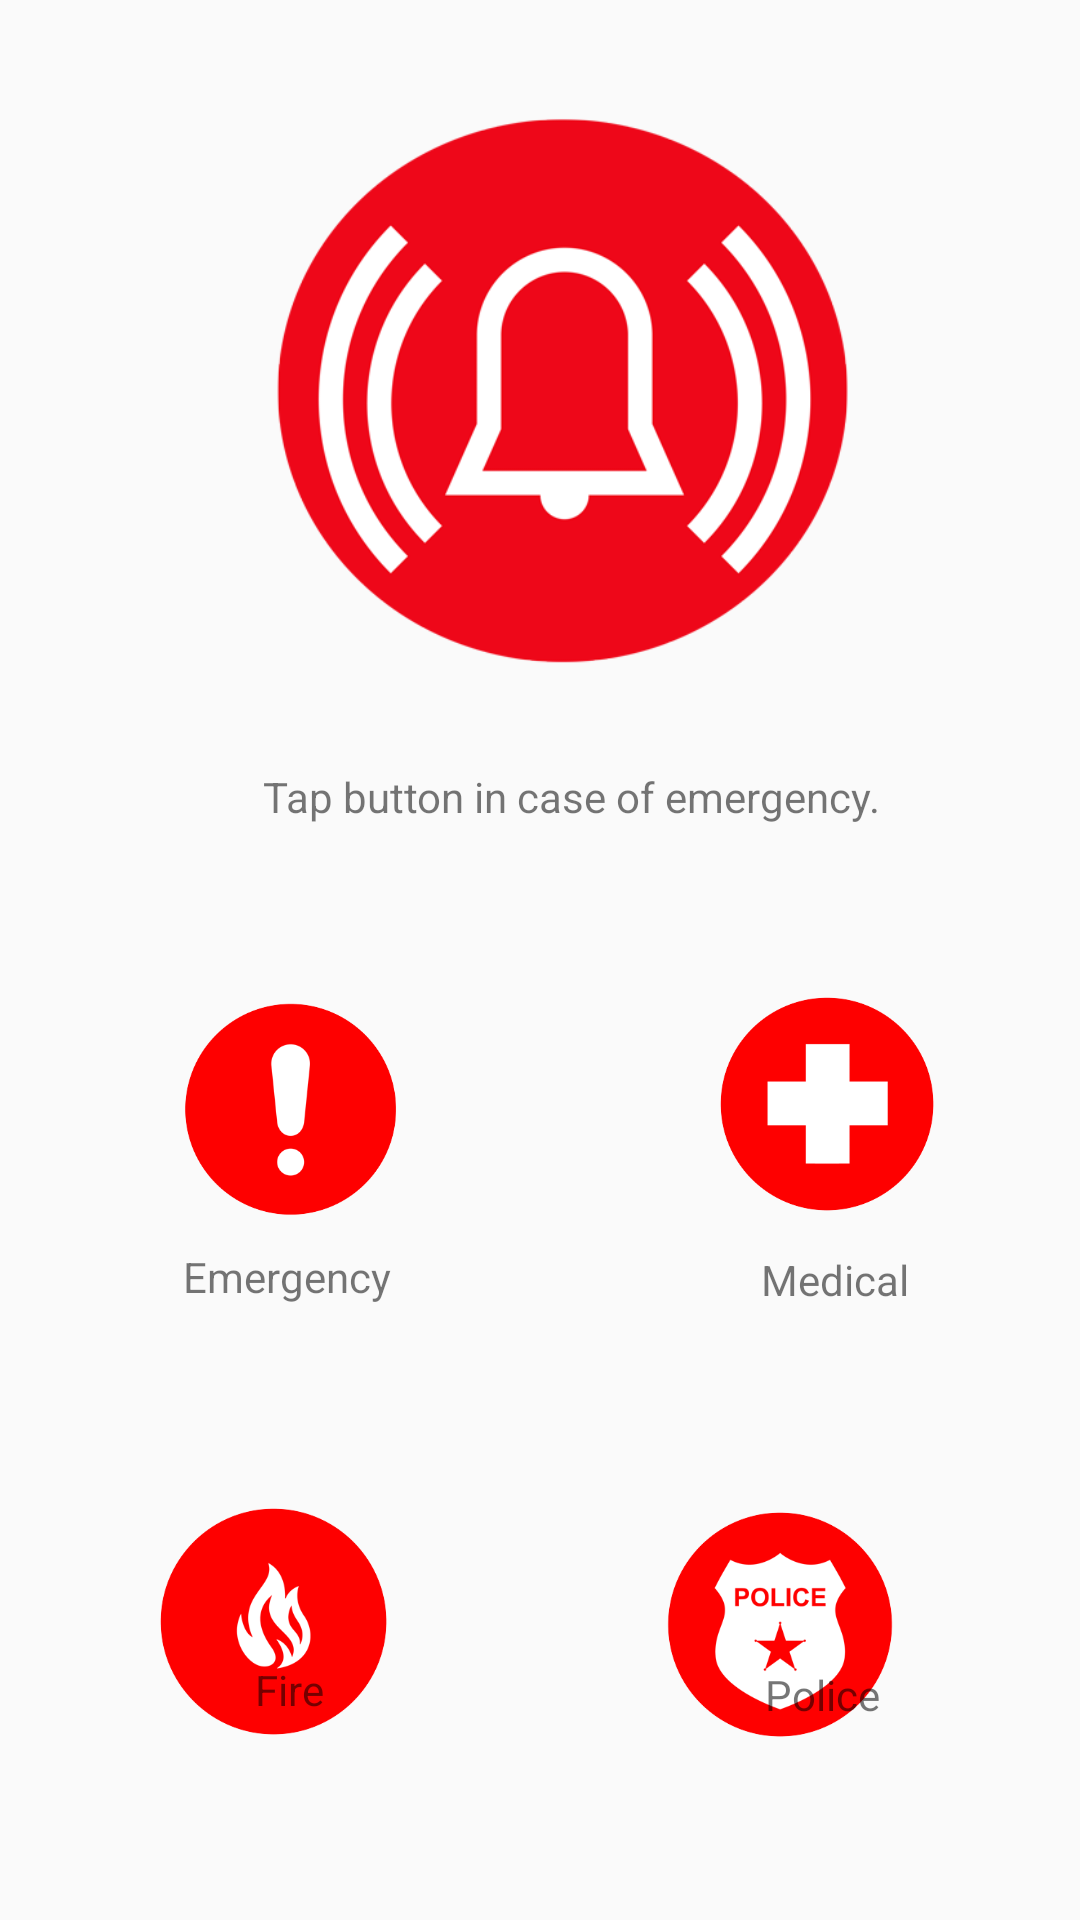

Screen size 1080px×1920px. Icon name, then its center in pixels as [x,y]:
health: [827,1147]
